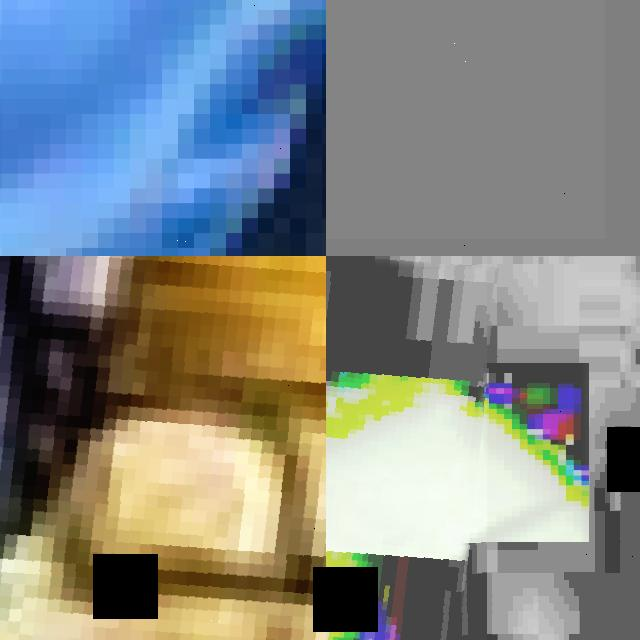arms: (0, 256, 326, 640), (326, 0, 605, 239), (326, 256, 487, 640), (326, 256, 640, 418)
